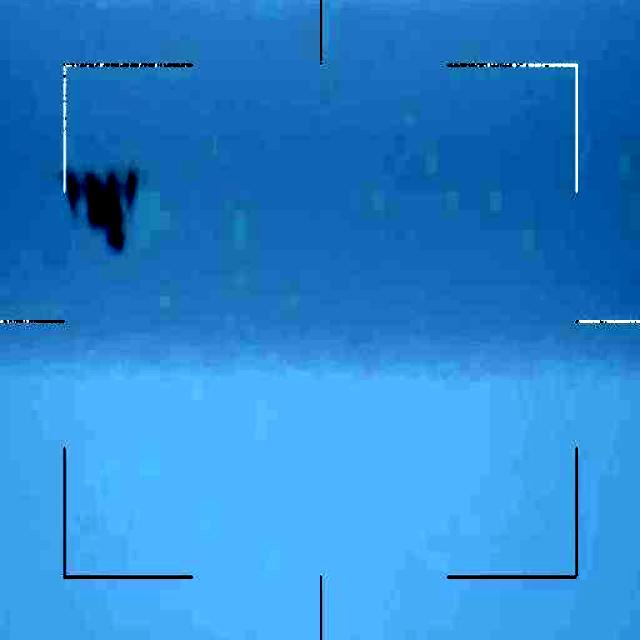bird: (66, 160, 142, 258)
